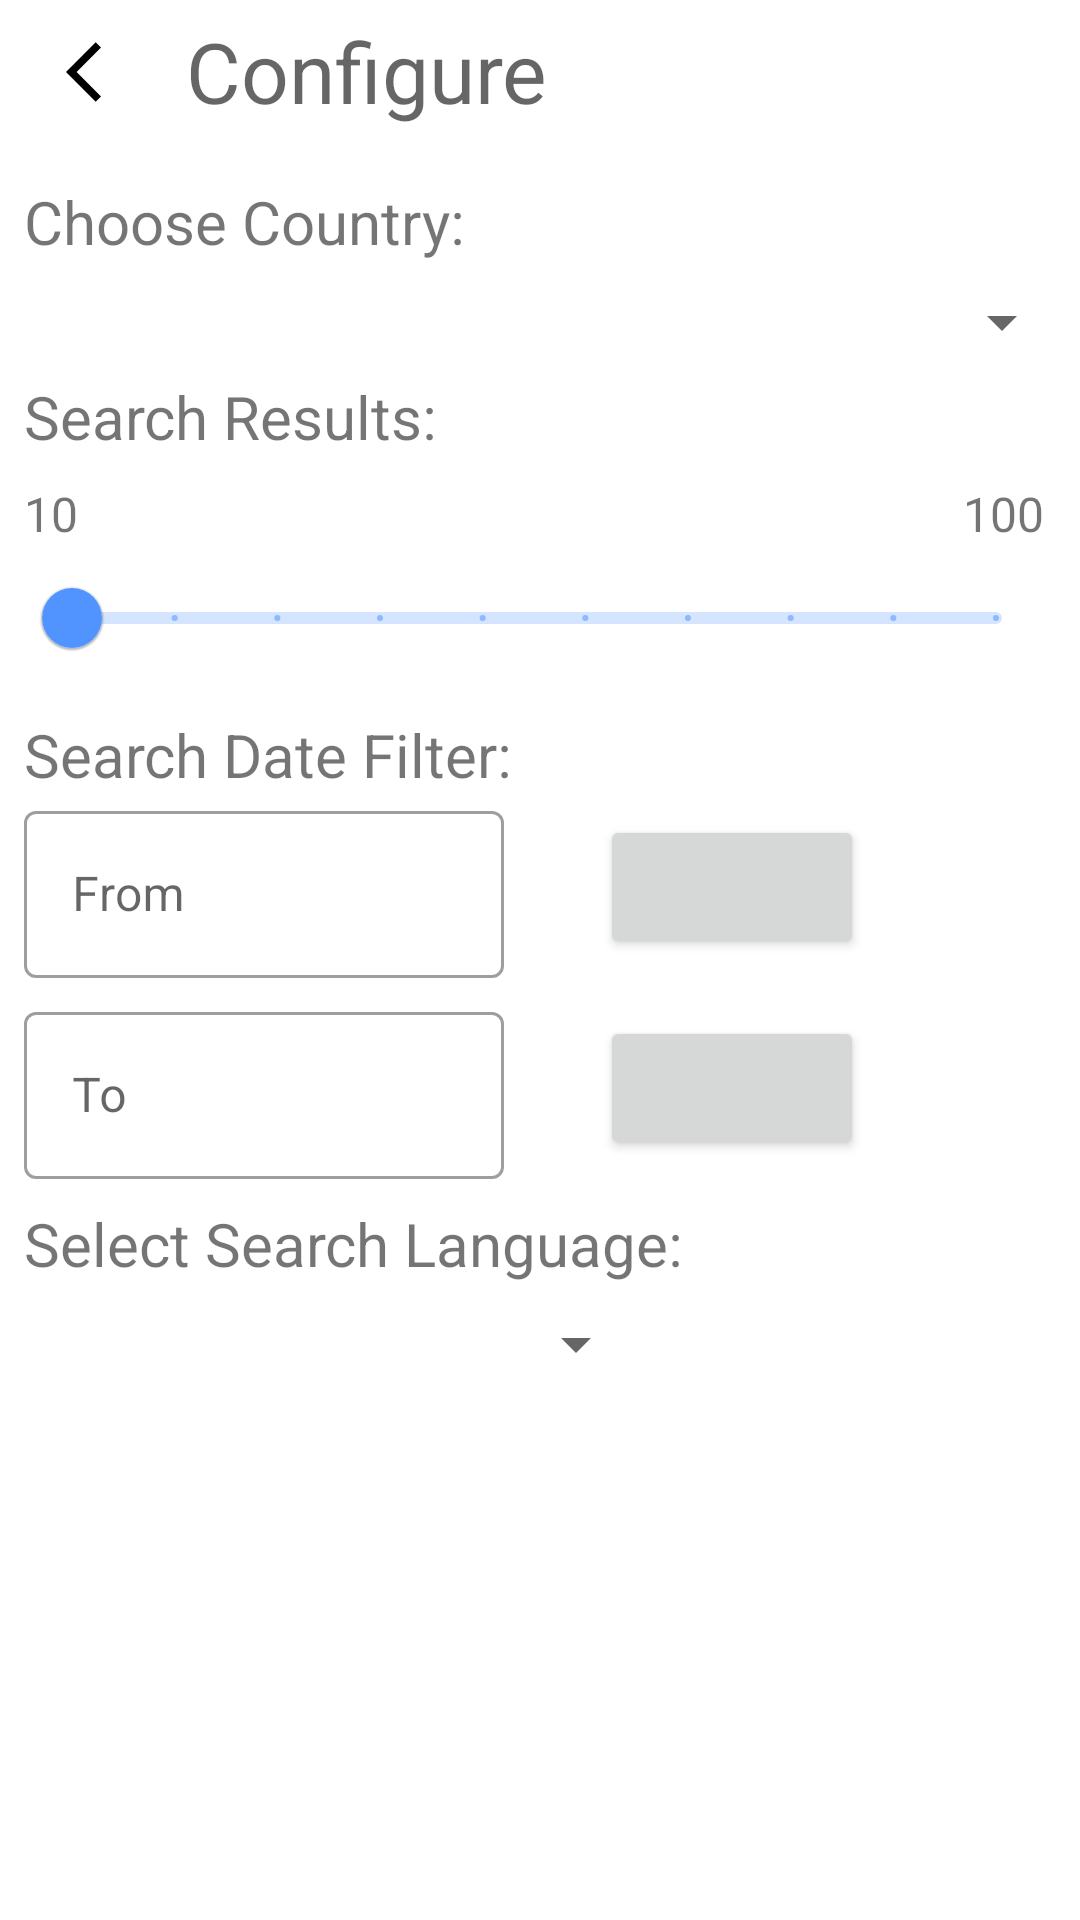

Point at icon controls on the screen. Image size 1080×1920, points as [x,y].
arrow back: [83,72]
